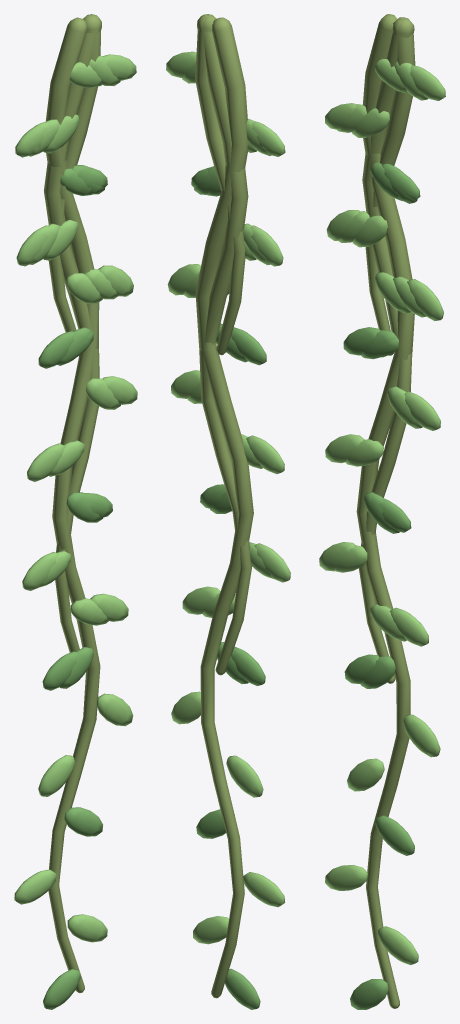
The model's file is vine.glb.
The picture shows the model from 3 angles, left to right: view 1: azimuth 30°, elevation 25°; view 2: azimuth 150°, elevation 25°; view 3: azimuth 330°, elevation 25°; orthographic projection.
Parts seen in each view (by area): view 1: vine; view 2: vine; view 3: vine.
Boxes of the visible parts, x1,y1,x2,y2 form: vine: (14,14,137,1009); vine: (166,14,290,1009); vine: (319,14,445,1009).
Bounding box in the file's own units: 0.3869 × 3.06 × 0.1057.
